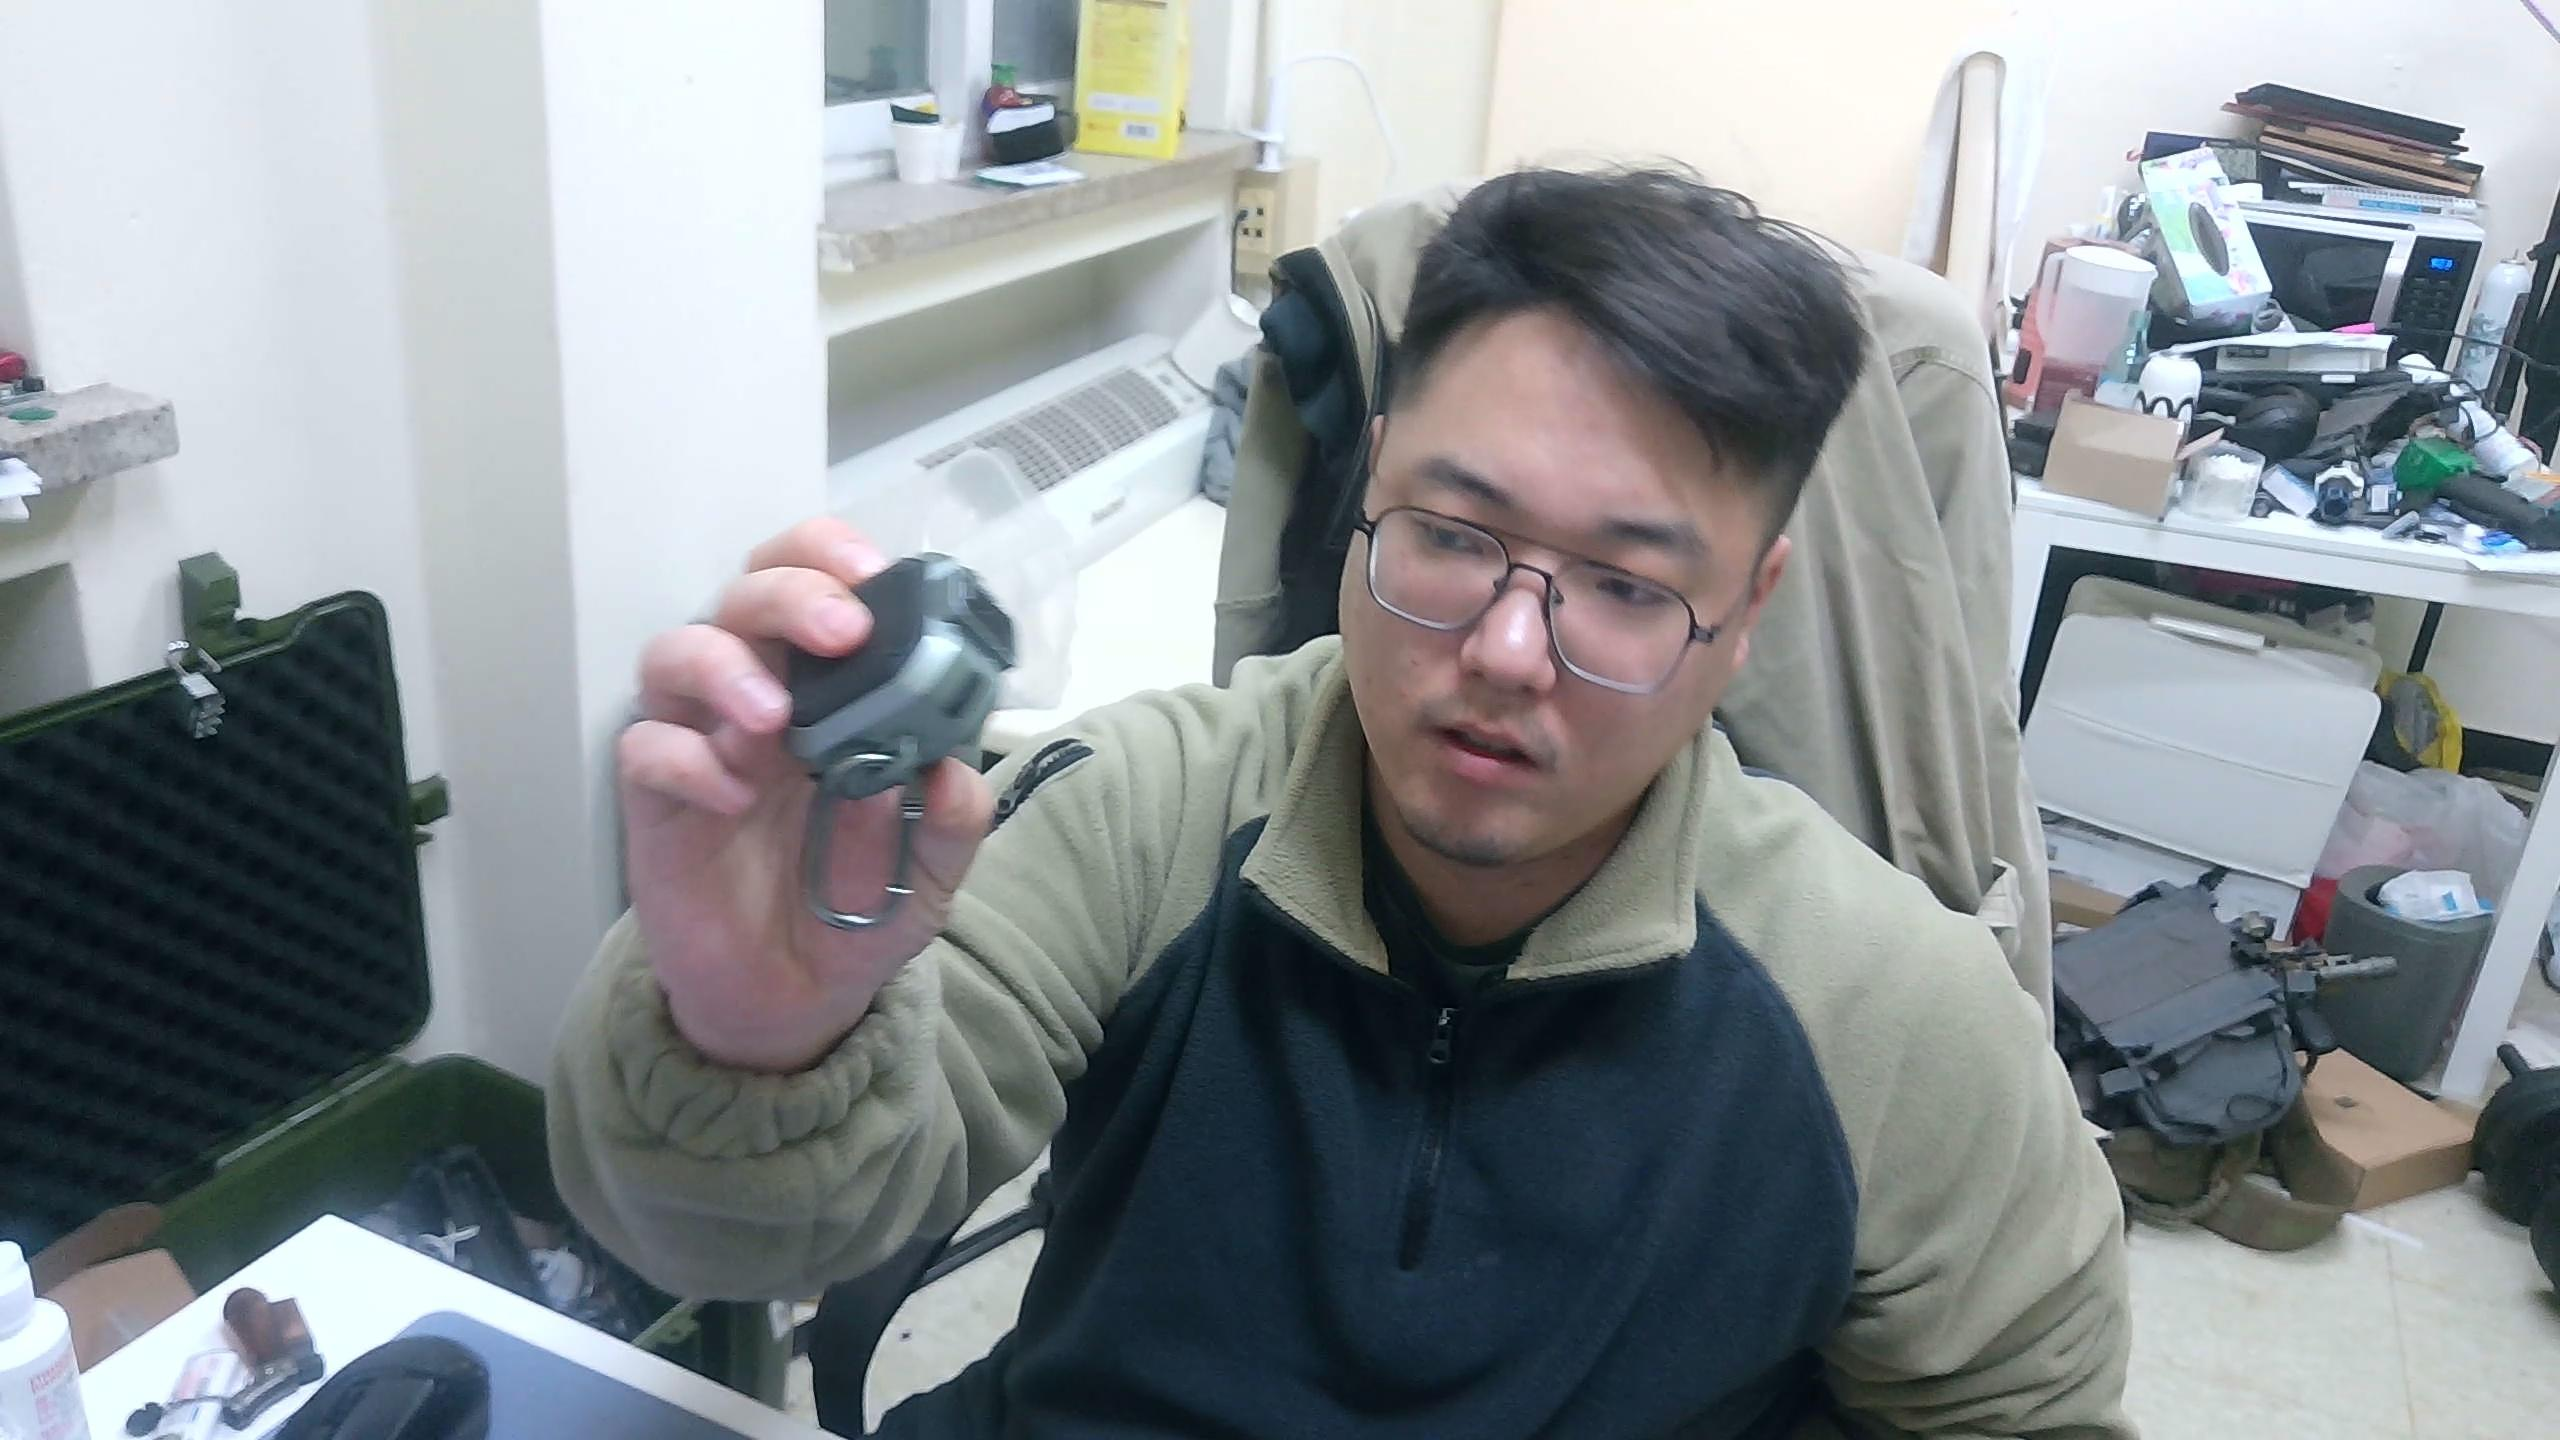blue_pliers: (777, 549, 1023, 934)
